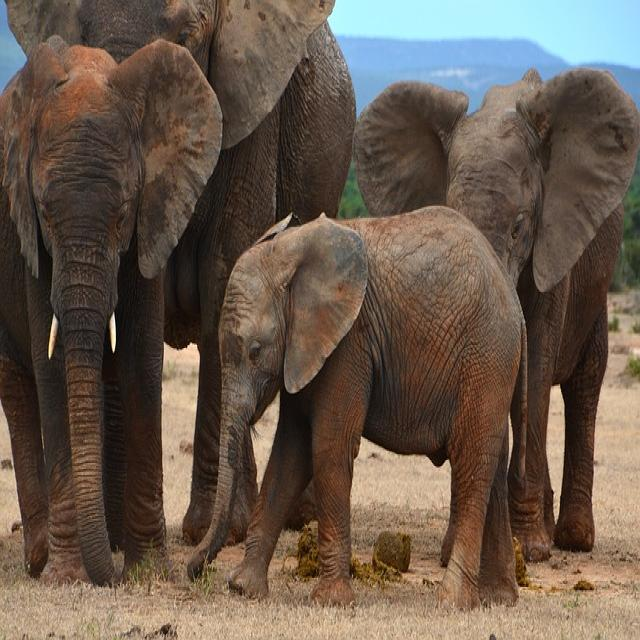elephant: (9, 0, 355, 542), (354, 68, 640, 561), (189, 206, 525, 607), (0, 36, 221, 584)
